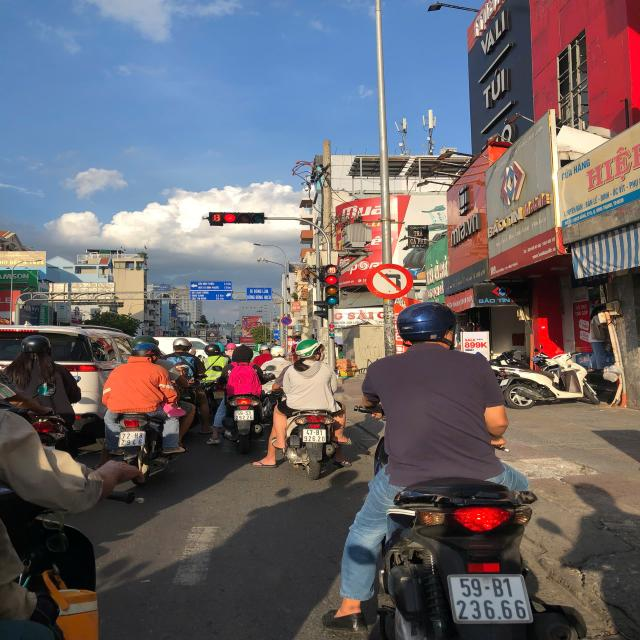Bien bao cam re trai: (364, 261, 418, 301)
